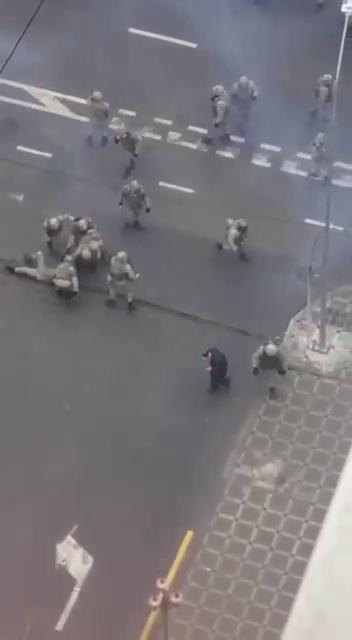person: (251, 342, 289, 400), (104, 251, 140, 312), (1, 248, 55, 284), (200, 84, 230, 144), (118, 180, 152, 232), (228, 77, 258, 132), (216, 218, 250, 264), (43, 214, 82, 254), (201, 347, 233, 393), (85, 90, 111, 146), (114, 130, 142, 180), (306, 133, 333, 182), (310, 73, 335, 125), (52, 254, 79, 300)
